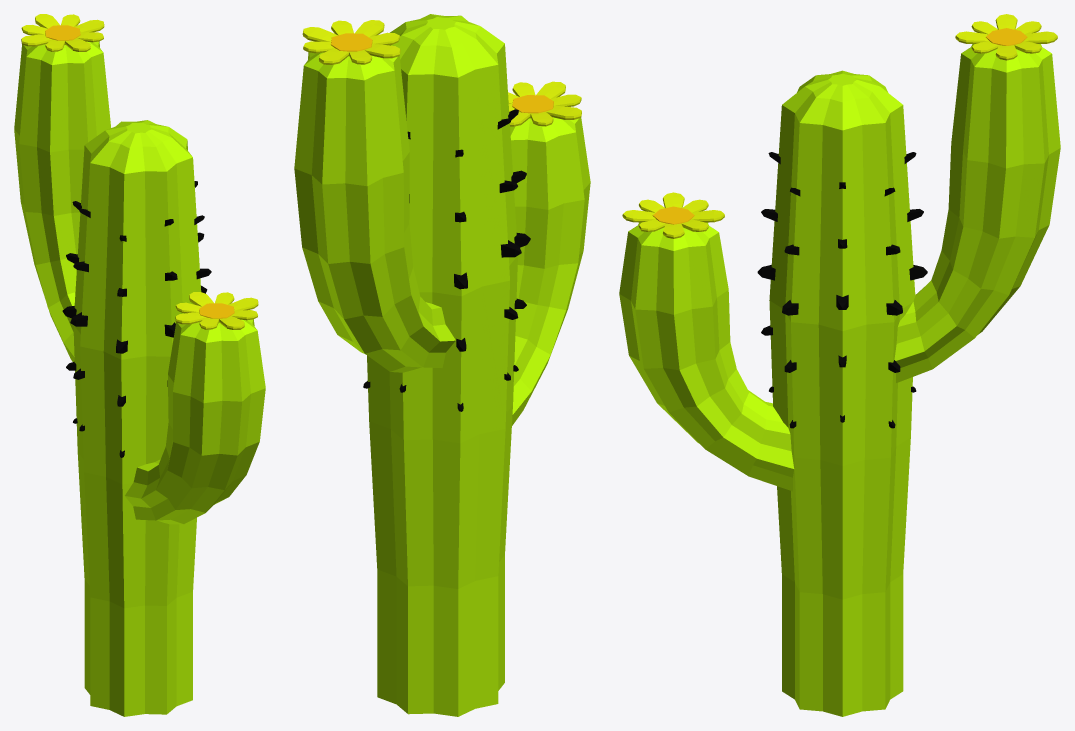
Rendered from Cardon01_02Brazos_Flor_Amarilla.fbx.
3 renders of one model, left to right at view 1: azimuth 30°, elevation 25°; view 2: azimuth 150°, elevation 25°; view 3: azimuth 270°, elevation 25°, orthographic. The views are drawn at different scales.
Visible parts, largest first — view 1: Cactus, Flor_Amarilla, Espinas; view 2: Cactus, Flor_Amarilla, Espinas; view 3: Cactus, Flor_Amarilla, Espinas.
Boxes of the visible parts, <box> form: Cactus: <box>14,41,265,716</box>; Flor_Amarilla: <box>21,14,258,329</box>; Espinas: <box>62,181,211,457</box>; Cactus: <box>294,14,590,716</box>; Flor_Amarilla: <box>302,20,581,126</box>; Espinas: <box>363,109,530,411</box>; Cactus: <box>619,44,1060,716</box>; Flor_Amarilla: <box>622,14,1057,238</box>; Espinas: <box>757,152,927,428</box>.
Size of the model in its own units: 53.18 by 226 by 138.
